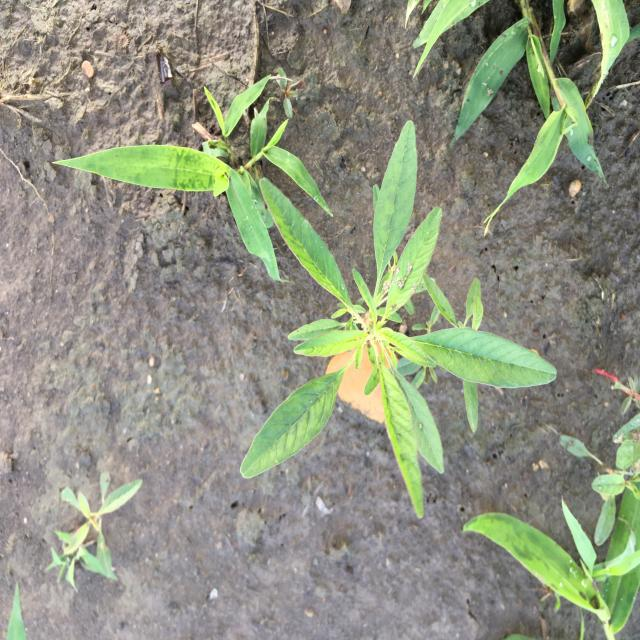Waterhemp: (236, 118, 560, 522), (557, 371, 637, 546), (44, 471, 146, 593)
